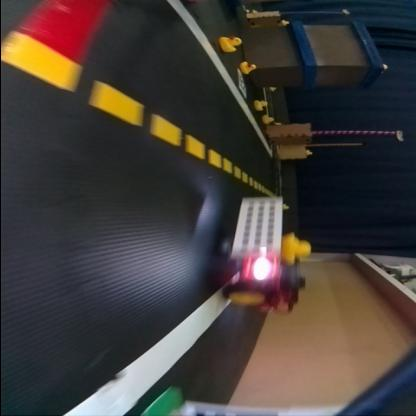Duckie: (284, 233, 310, 262), (219, 36, 240, 52), (240, 62, 256, 74), (254, 100, 267, 109), (262, 116, 272, 121), (306, 148, 313, 154), (282, 203, 288, 209)
Duckiebot: (226, 198, 300, 308)
QR code: (238, 70, 246, 94)
